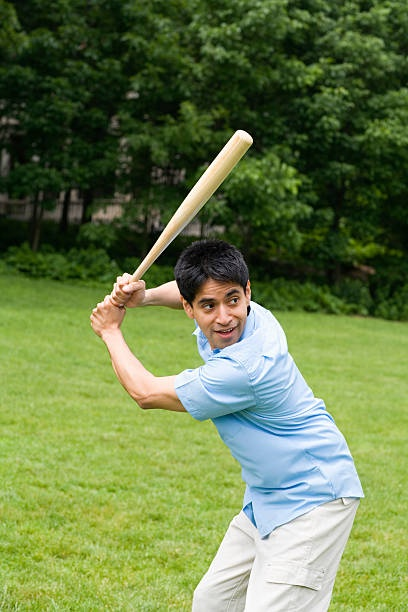bita: (118, 135, 253, 298)
